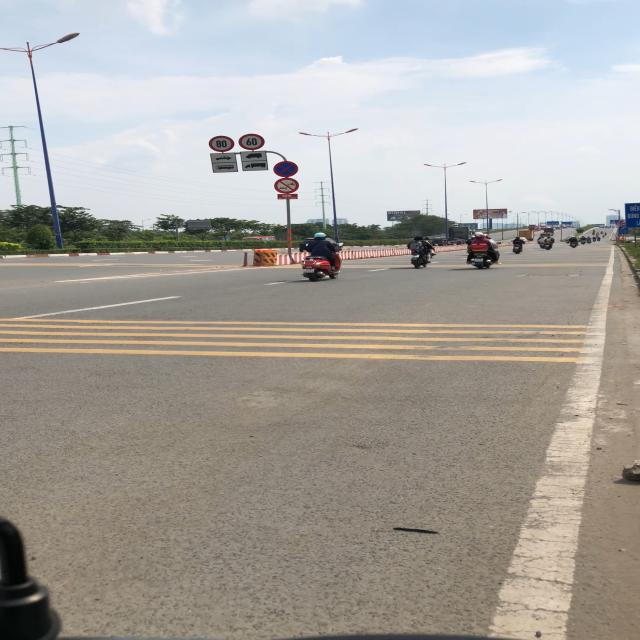Bien bao cam dung xe va do xe: (270, 160, 300, 178)
Bien bao toc do toi da cho phep: (205, 133, 235, 153), (238, 132, 268, 150)
